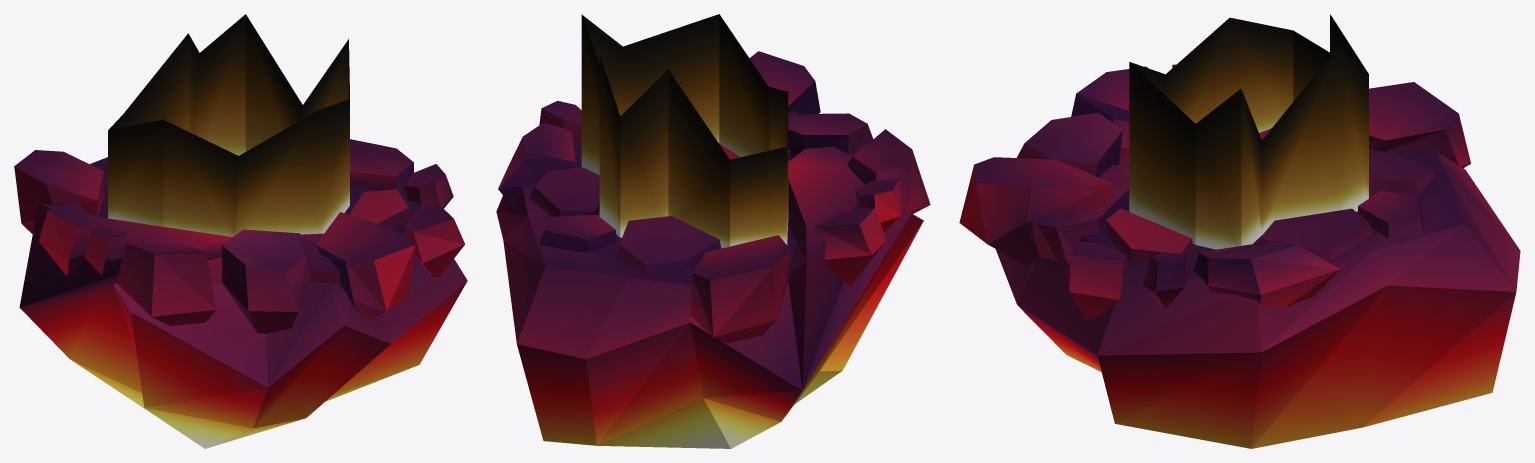
The model's file is floor.fbx.
The picture shows the model from 3 angles, left to right: view 1: azimuth 30°, elevation 25°; view 2: azimuth 150°, elevation 25°; view 3: azimuth 270°, elevation 25°; orthographic projection. The views are drawn at different scales.
Parts seen in each view (by area): view 1: floor, floorGlow; view 2: floor, floorGlow; view 3: floor, floorGlow.
Part boxes in pixels (<box>): floor: <box>14,139,467,448</box>; floorGlow: <box>108,14,349,236</box>; floor: <box>496,51,930,448</box>; floorGlow: <box>581,14,788,248</box>; floor: <box>959,64,1520,448</box>; floorGlow: <box>1129,14,1368,249</box>.
Bounding box in the file's own units: 301 × 303 × 354.
Materials: 2 (2 with a texture image).
